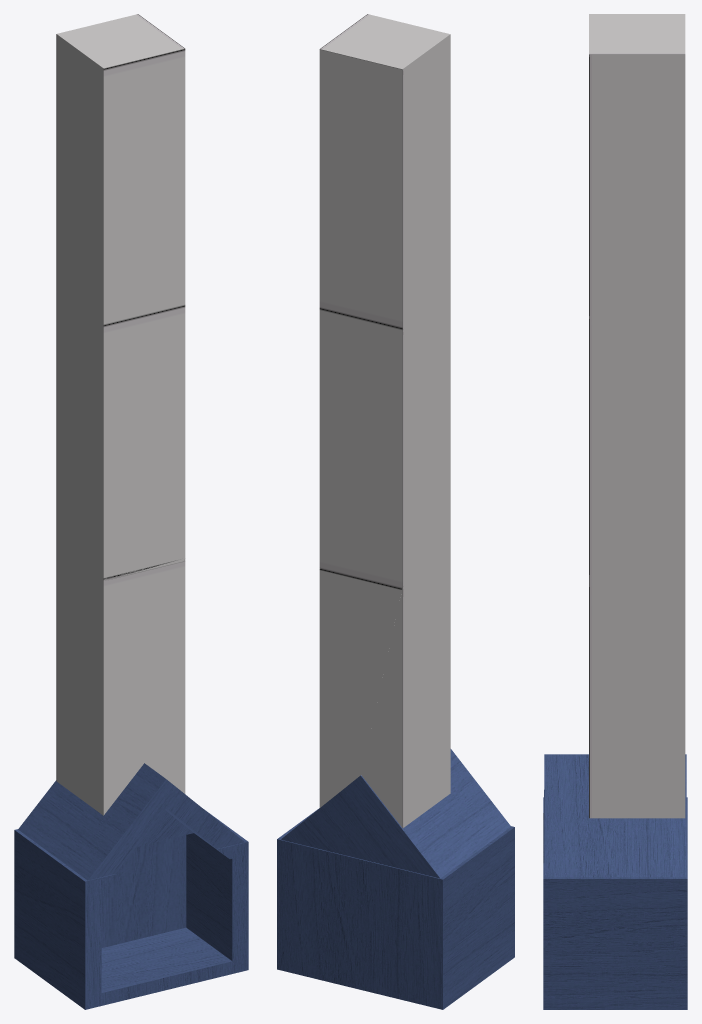
The model's file is fireplace.gltf.
The picture shows the model from 3 angles, left to right: view 1: azimuth 30°, elevation 25°; view 2: azimuth 150°, elevation 25°; view 3: azimuth 270°, elevation 25°; orthographic projection. The views are drawn at different scales.
Parts seen in each view (by area): view 1: CSGCombiner3D2; view 2: CSGCombiner3D2; view 3: CSGCombiner3D2.
Part boxes in pixels (box(x1,y1,x2,y2)): CSGCombiner3D2: box(14, 14, 248, 1009); CSGCombiner3D2: box(277, 14, 514, 1009); CSGCombiner3D2: box(543, 14, 687, 1009).
Bounding box in the file's own units: 2 × 10.7 × 1.5.
Materials: 2 (2 with a texture image).
